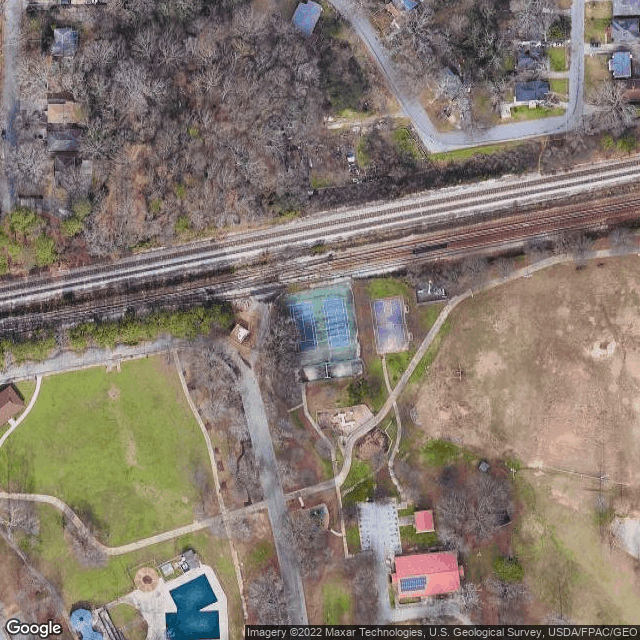Court: (286, 300, 319, 354), (322, 296, 352, 351)
